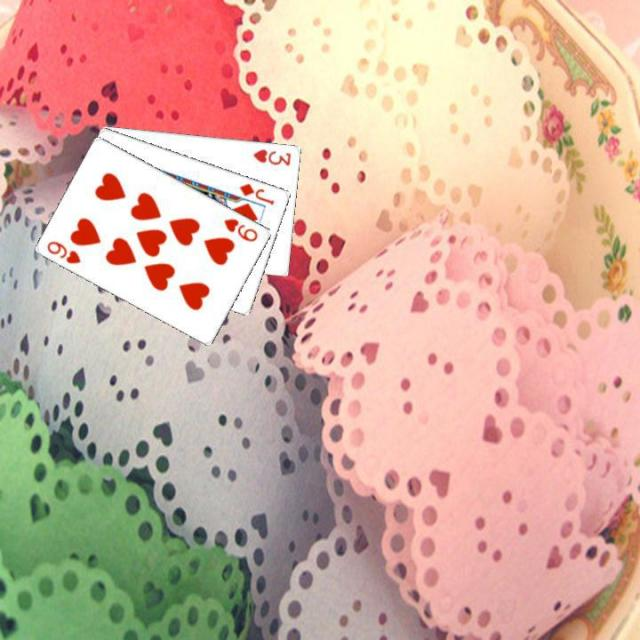3H: (250, 145, 292, 167)
9H: (220, 214, 260, 244), (42, 237, 82, 266)
JD: (236, 179, 276, 206)
